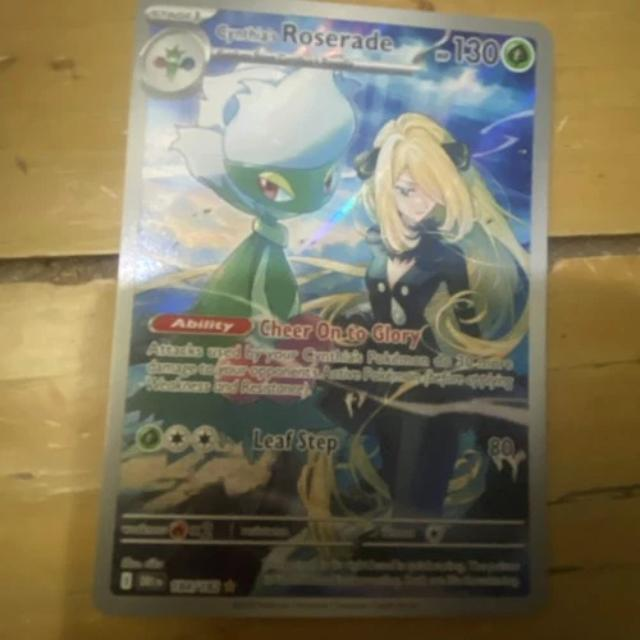Card: (84, 0, 561, 625)
Name: (211, 6, 402, 64)
